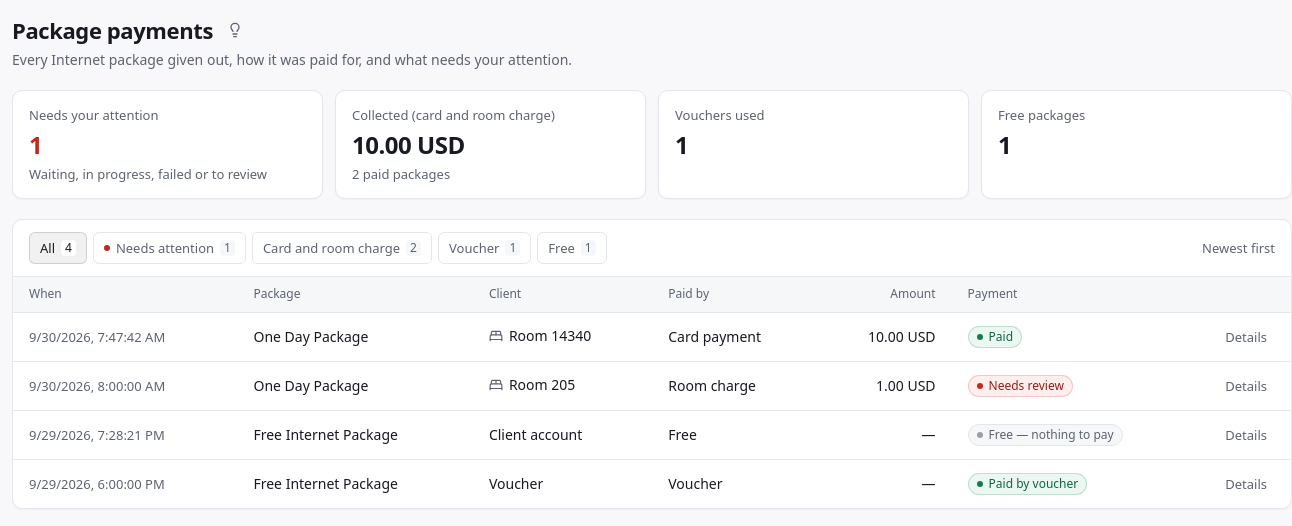
Test case: package payments › narrows to what needs attention
This screenshot has width=1292, height=526.
Check: the text "Room 14340" is shown, box [489, 326, 591, 346]
Click the radio button labelled "Needs attention 1".
click(169, 248)  # box [93, 232, 246, 264]
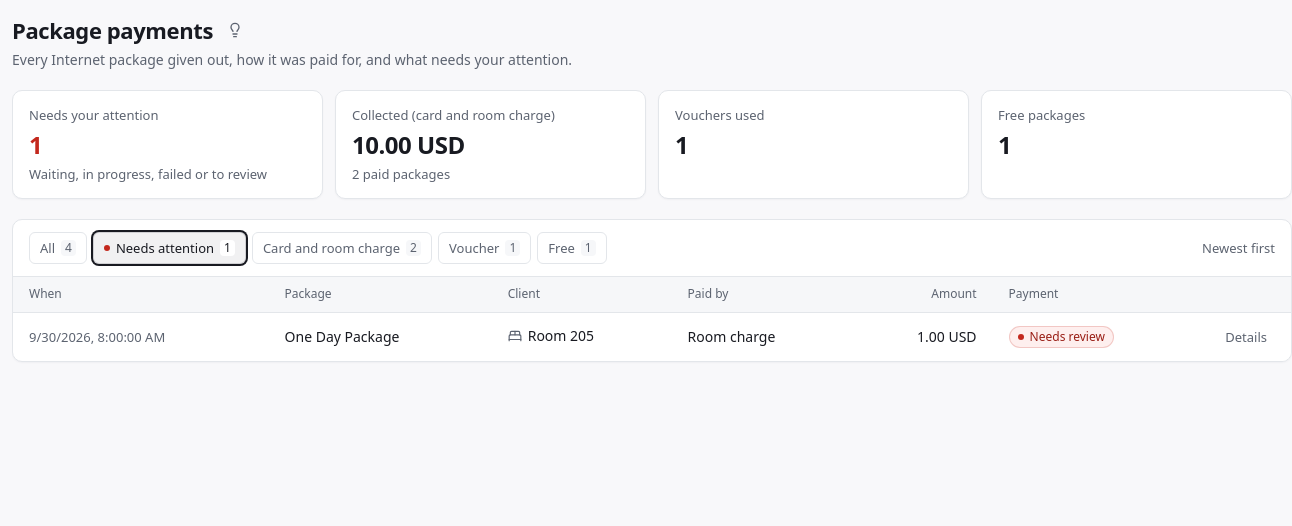
Check: the text "Room 205" is shown, box [508, 326, 594, 346]
Check: the text "Room 14340" is gone
Check: the text "Client account" is gone
